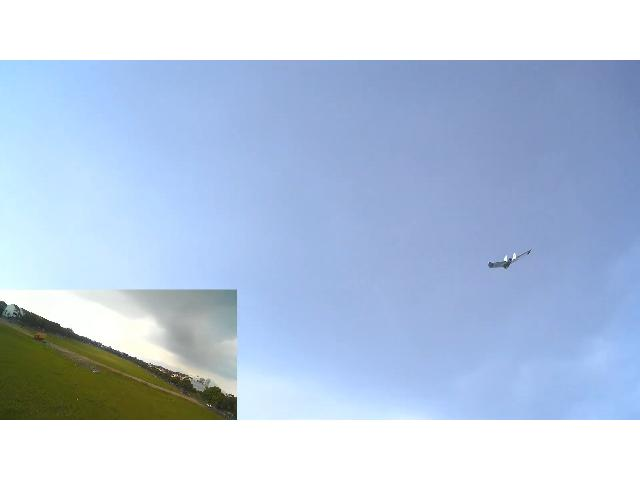Anti-Drone: (488, 247, 536, 269)
